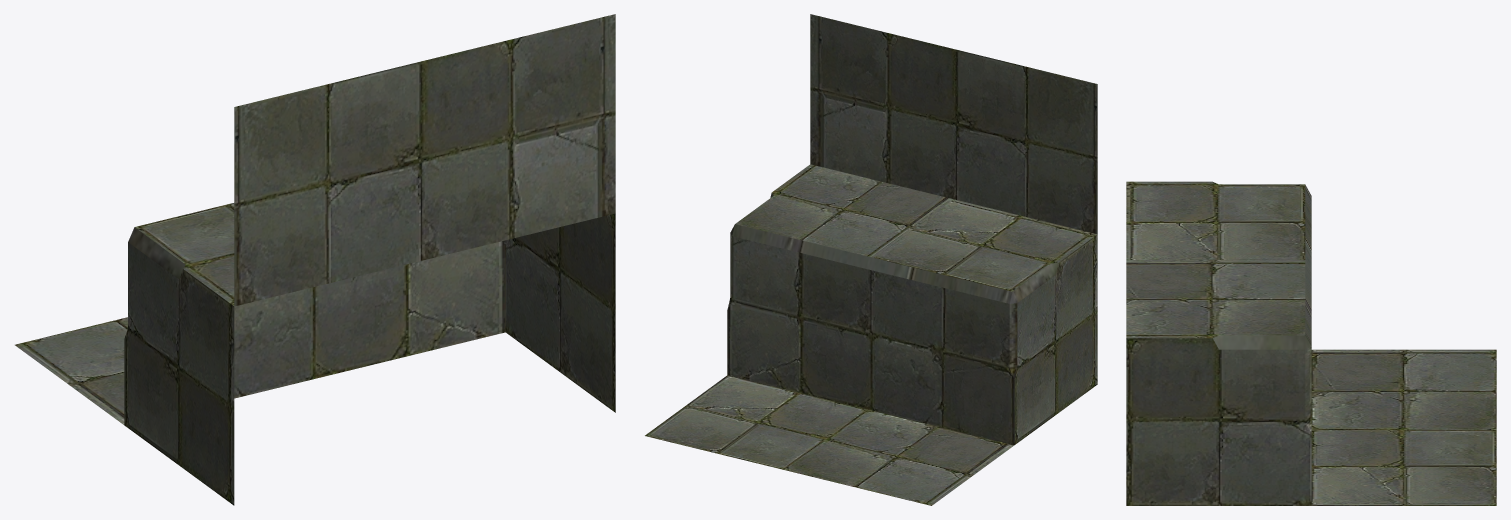
Rendered from block prcStairs3.fbx.
3 views of the same model, side by side, from view 1: azimuth 30°, elevation 25°; view 2: azimuth 150°, elevation 25°; view 3: azimuth 270°, elevation 25° (orthographic). The views are drawn at different scales.
Parts seen in each view (by area): view 1: Stairs; view 2: Stairs; view 3: Stairs.
Part boxes in pixels (x1,y1,x2,y2): Stairs: (15, 14, 615, 505); Stairs: (645, 14, 1097, 505); Stairs: (1126, 181, 1496, 505).
Size of the model in its own units: 100 by 100 by 100.
